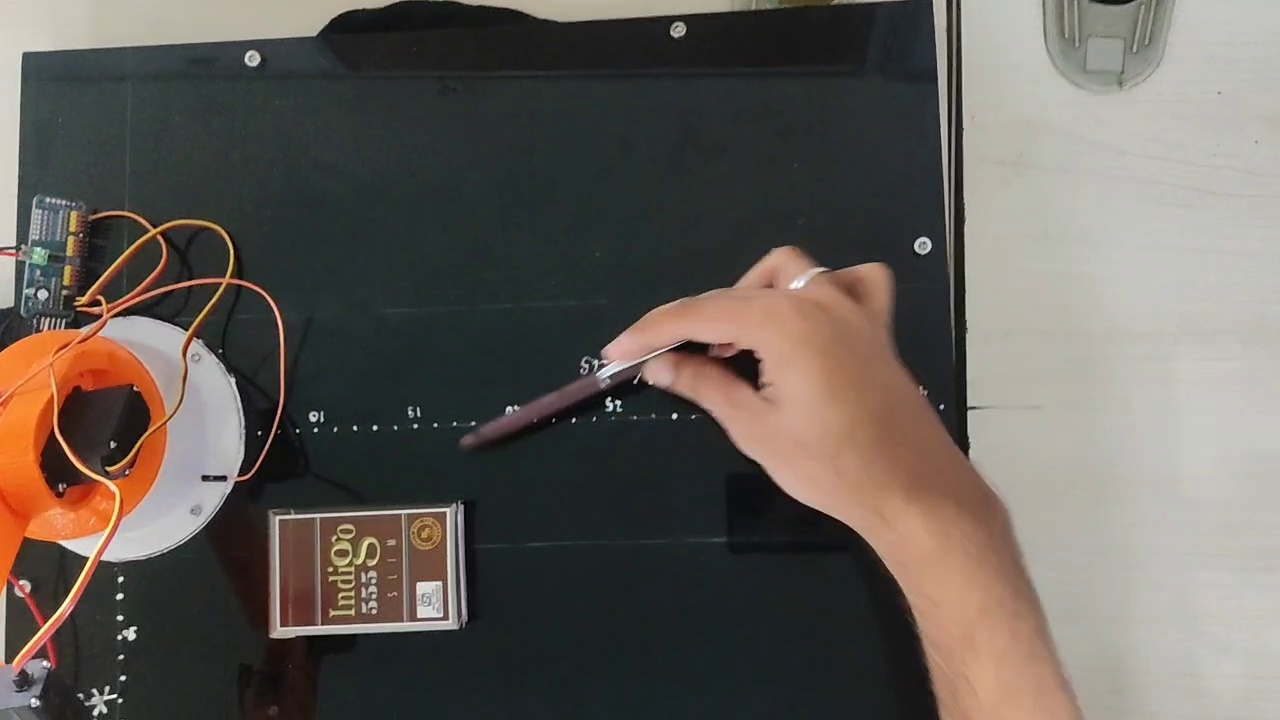BEX: (276, 507, 447, 628)
